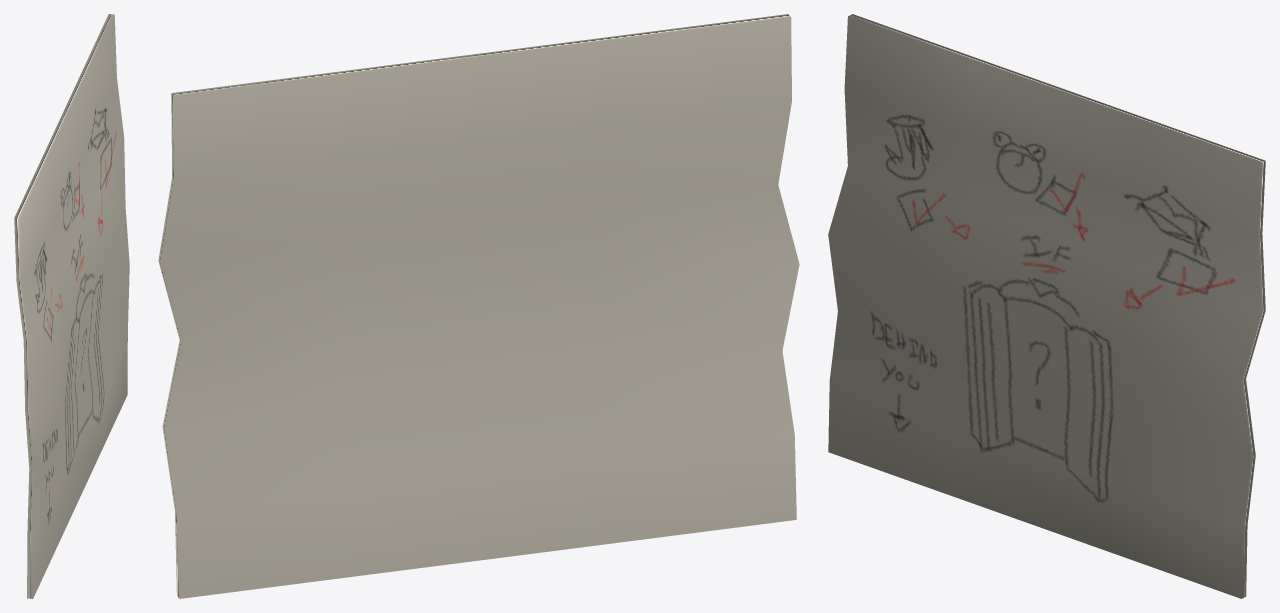
Rendered from SmallPaperTuto.fbx.
3 renders of one model, left to right at view 1: azimuth 30°, elevation 25°; view 2: azimuth 150°, elevation 25°; view 3: azimuth 270°, elevation 25°, orthographic. The views are drawn at different scales.
Visible parts, largest first — view 1: Cube.056; view 2: Cube.056; view 3: Cube.056.
Part boxes in pixels (x1,y1,x2,y2): Cube.056: (14, 14, 129, 598); Cube.056: (158, 14, 799, 598); Cube.056: (828, 14, 1265, 598).
Bounding box in the file's own units: 109 × 138 × 124.
